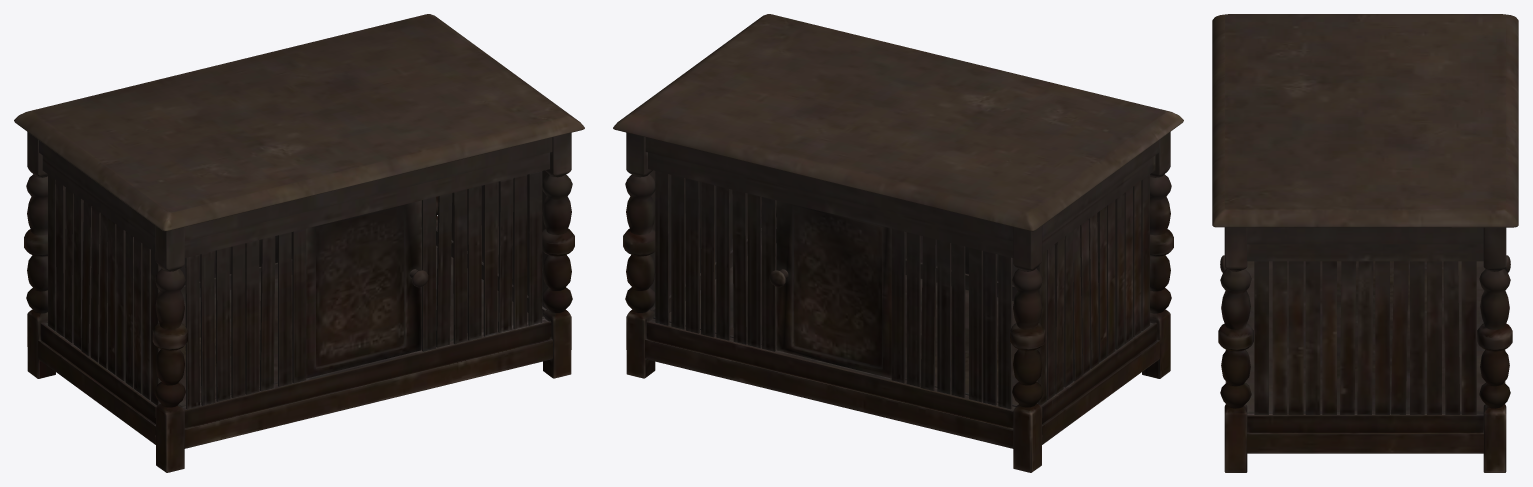
Rendered from gallinera_table.glb.
3 renders of one model, left to right at view 1: azimuth 30°, elevation 25°; view 2: azimuth 150°, elevation 25°; view 3: azimuth 270°, elevation 25°, orthographic.
Visible parts, largest first — view 1: gallinera_table; view 2: gallinera_table; view 3: gallinera_table.
Part boxes in pixels (x1,y1,x2,y2): gallinera_table: [14, 14, 584, 472]; gallinera_table: [613, 14, 1183, 472]; gallinera_table: [1212, 14, 1518, 472].
Size of the model in its own units: 0.8301 by 0.4878 by 0.5183.
1 material, 1 textured.
